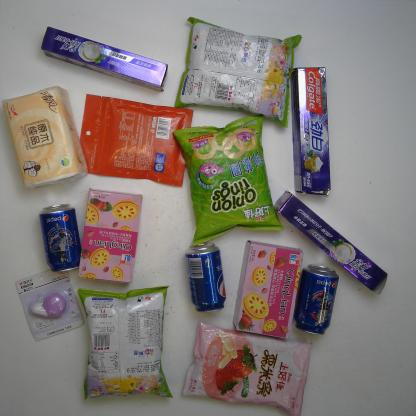Dessert: (230, 240, 306, 341), (76, 185, 143, 286)
Dried Fruit: (77, 91, 194, 188)
Drink: (293, 262, 340, 336), (183, 241, 228, 314), (39, 200, 82, 274)
Personal Hygiene: (272, 188, 388, 296), (39, 25, 170, 93), (289, 66, 334, 197)
Puffed Food: (171, 14, 304, 130), (170, 114, 284, 249), (181, 321, 313, 416), (76, 284, 173, 401)
Stationery: (14, 268, 84, 342)
Tissue: (2, 85, 89, 191)
